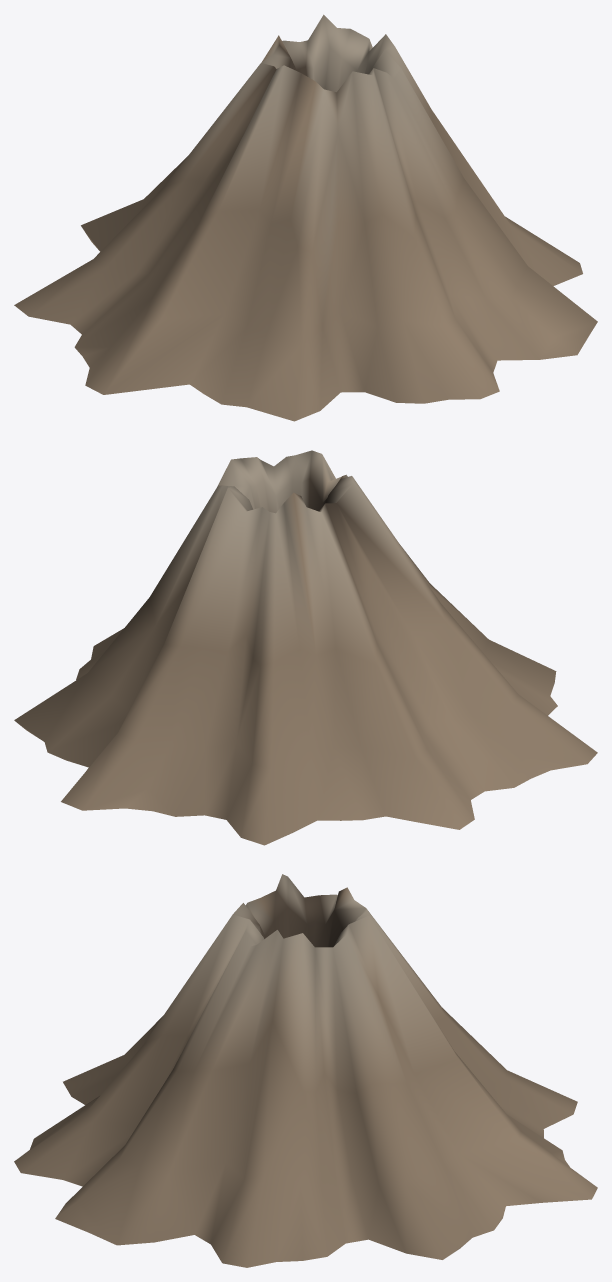
Rendered from volcano-a-light.glb.
3 views of the same model, one above another, from view 1: azimuth 30°, elevation 25°; view 2: azimuth 150°, elevation 25°; view 3: azimuth 270°, elevation 25° (orthographic). The views are drawn at different scales.
Visible parts, largest first — view 1: volcano-a.001; view 2: volcano-a.001; view 3: volcano-a.001.
Part boxes in pixels (x1=…): volcano-a.001: x1=14, y1=14, x2=597, y2=421; volcano-a.001: x1=14, y1=450, x2=597, y2=845; volcano-a.001: x1=14, y1=874, x2=597, y2=1267.
Bounding box in the file's own units: 2.28 × 1.11 × 2.3.
